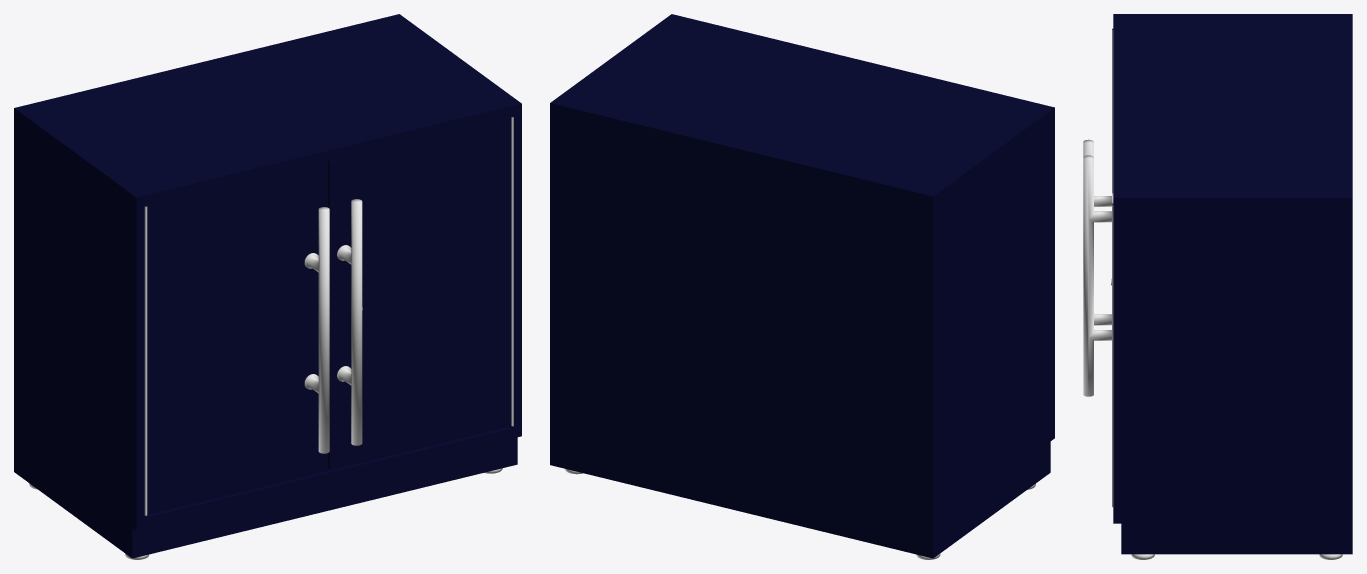
The model's file is door2BaseLux.glb.
The picture shows the model from 3 angles, left to right: view 1: azimuth 30°, elevation 25°; view 2: azimuth 150°, elevation 25°; view 3: azimuth 270°, elevation 25°; orthographic projection. The views are drawn at different scales.
Parts seen in each view (by area): view 1: baseShell, doors, handles, hinge; view 2: baseShell; view 3: baseShell, handles, hinge.
Boxes of the visible parts, box(x1,y1,x2,y2) form: baseShell: box(14, 14, 521, 558); doors: box(145, 116, 513, 514); handles: box(304, 199, 362, 453); hinge: box(144, 117, 513, 515); baseShell: box(550, 14, 1054, 558); baseShell: box(1113, 14, 1352, 554); handles: box(1083, 139, 1113, 396); hinge: box(1112, 29, 1113, 507).
Size of the model in its own units: 1.02 by 0.9382 by 0.6287.
